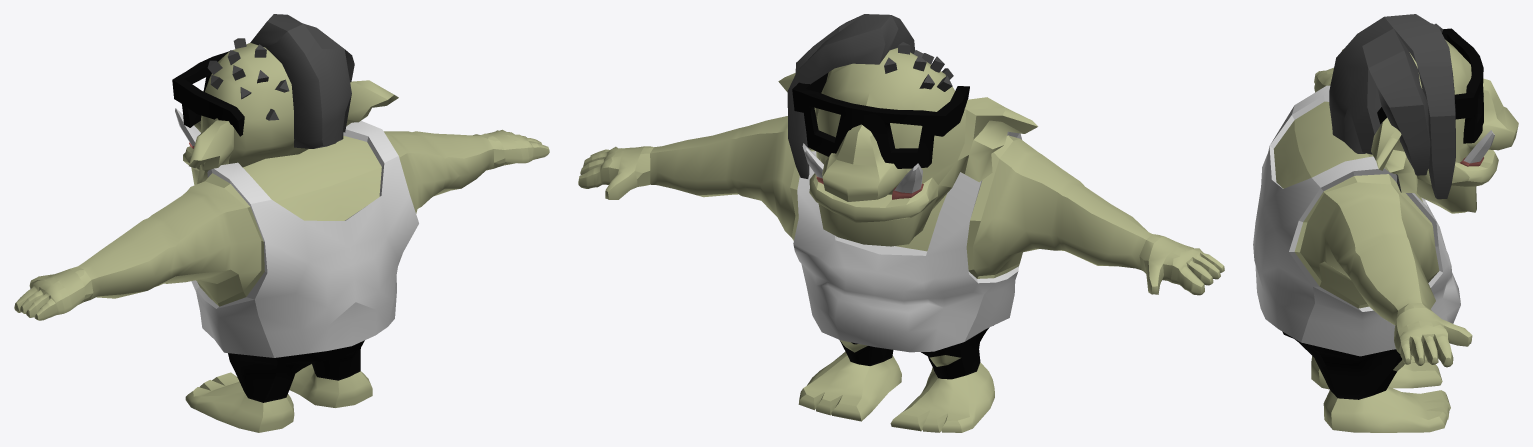
Rendered from strollex_01.fbx.
3 views of the same model, side by side, from view 1: azimuth 30°, elevation 25°; view 2: azimuth 150°, elevation 25°; view 3: azimuth 270°, elevation 25° (orthographic). The views are drawn at different scales.
Parts seen in each view (by area): view 1: strollex_body1, cabeza_strollex_lowpoli1, gafas_strollex_lowpoli1, rapado_strollex_lowpoli1; view 2: strollex_body1, cabeza_strollex_lowpoli1, gafas_strollex_lowpoli1, rapado_strollex_lowpoli1; view 3: strollex_body1, cabeza_strollex_lowpoli1, gafas_strollex_lowpoli1.
Part boxes in pixels (x1,y1,x2,y2): strollex_body1: (14, 121, 549, 432); cabeza_strollex_lowpoli1: (175, 14, 398, 185); gafas_strollex_lowpoli1: (172, 50, 244, 136); rapado_strollex_lowpoli1: (207, 38, 289, 120); strollex_body1: (578, 116, 1224, 432); cabeza_strollex_lowpoli1: (778, 14, 1037, 246); gafas_strollex_lowpoli1: (792, 72, 969, 168); rapado_strollex_lowpoli1: (884, 42, 953, 91); strollex_body1: (1253, 67, 1472, 432); cabeza_strollex_lowpoli1: (1329, 14, 1518, 213); gafas_strollex_lowpoli1: (1377, 28, 1483, 143).
Size of the model in its own units: 15.81 by 9.83 by 6.17.
